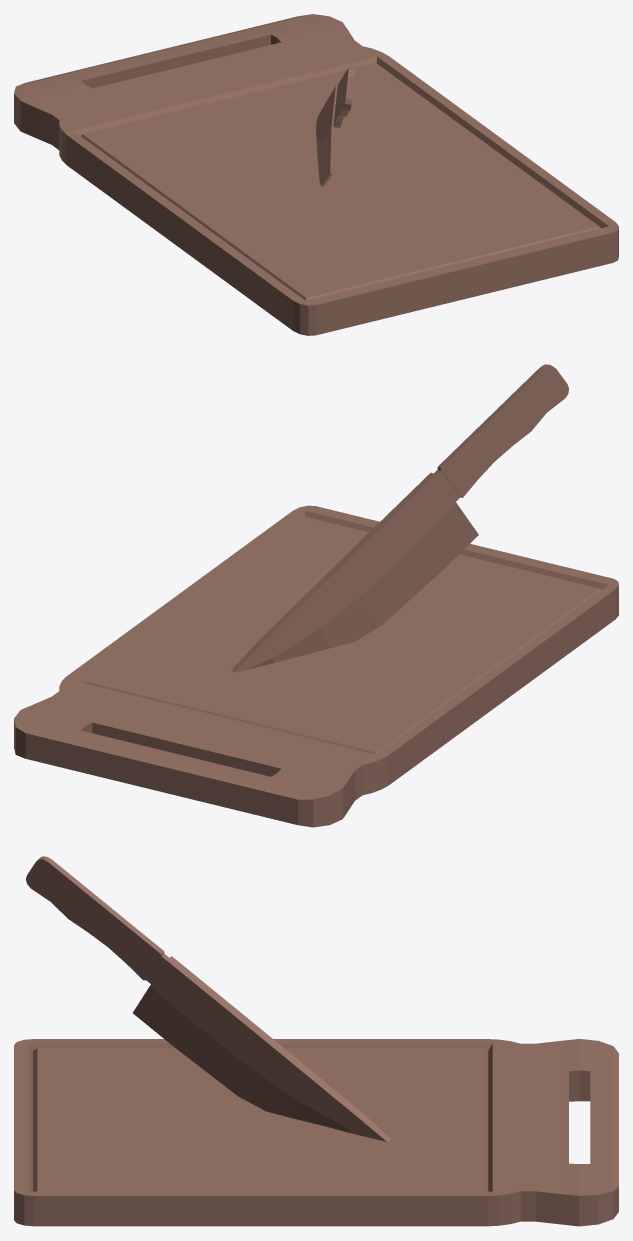
Rendered from Estación_Mochis.fbx.
3 views of the same model, one above another, from view 1: azimuth 30°, elevation 25°; view 2: azimuth 150°, elevation 25°; view 3: azimuth 270°, elevation 25° (orthographic).
Visible parts, largest first — view 1: m_TablaDeCortar; view 2: m_TablaDeCortar; view 3: m_TablaDeCortar.
Boxes of the visible parts, <box> form: m_TablaDeCortar: <box>14,14,618,335</box>; m_TablaDeCortar: <box>14,364,618,827</box>; m_TablaDeCortar: <box>14,856,618,1226</box>.
Bounding box in the file's own units: 116 × 83.38 × 188.
